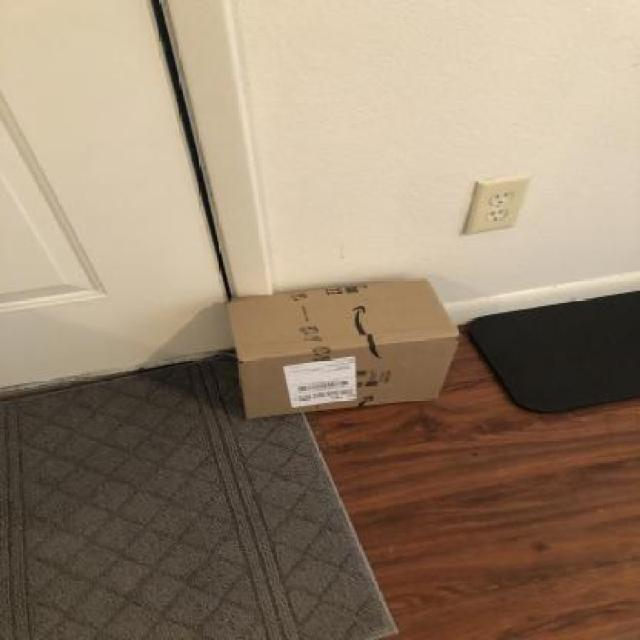cardboxes: (217, 272, 466, 425)
